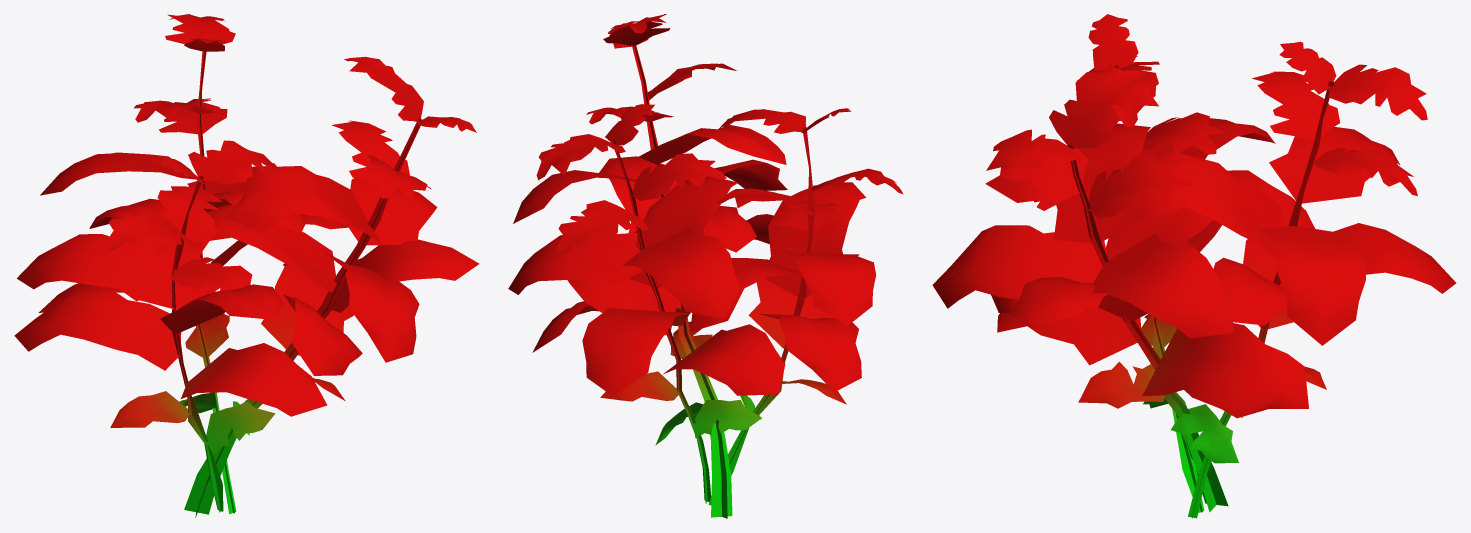
The model's file is Black Locust_LOD2_Var14.fbx.
3 renders of one model, left to right at view 1: azimuth 30°, elevation 25°; view 2: azimuth 150°, elevation 25°; view 3: azimuth 270°, elevation 25°, orthographic. The views are drawn at different scales.
Parts seen in each view (by area): view 1: _lqx8_Var14_LOD2; view 2: _lqx8_Var14_LOD2; view 3: _lqx8_Var14_LOD2.
Boxes of the visible parts, box(x1,y1,x2,y2) form: _lqx8_Var14_LOD2: box(14, 14, 479, 517); _lqx8_Var14_LOD2: box(508, 14, 903, 518); _lqx8_Var14_LOD2: box(932, 14, 1456, 518).
Size of the model in its own units: 40.02 by 46.13 by 43.68.
